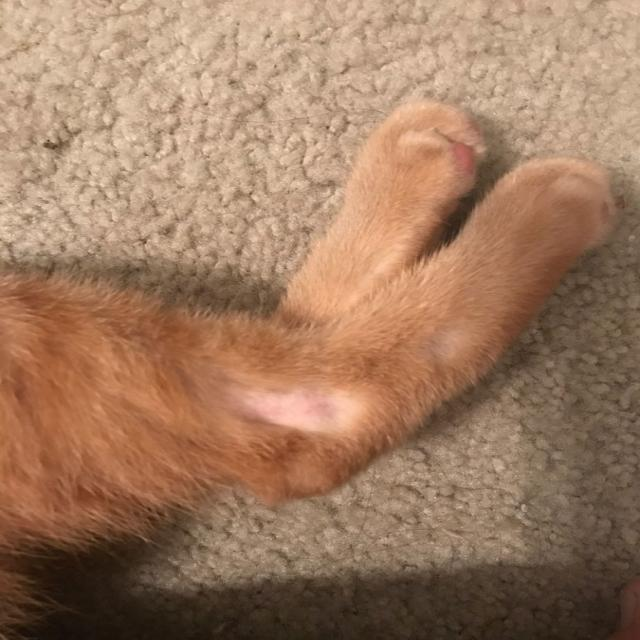da khoe manh: (17, 330, 156, 475)
hac lao: (210, 353, 427, 464)
